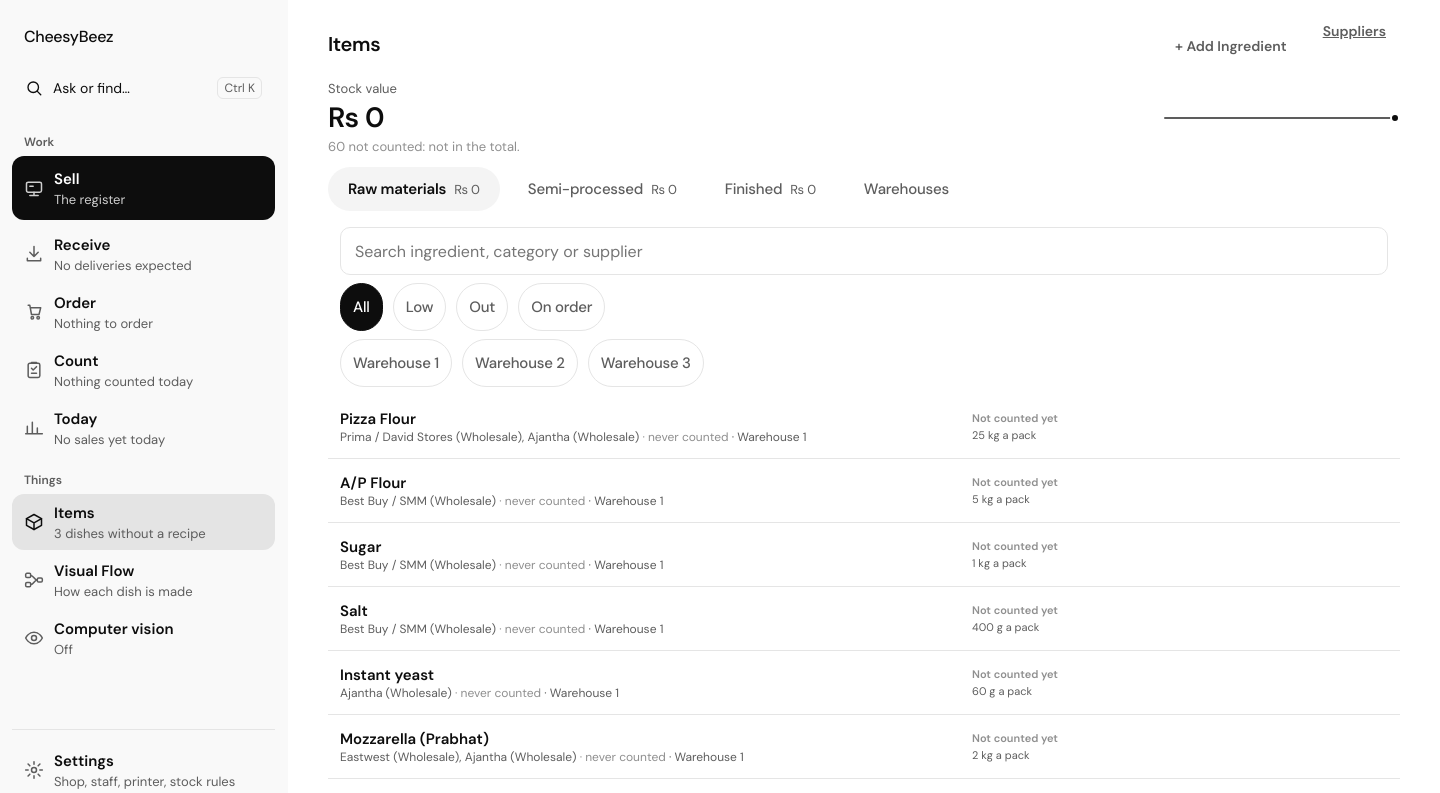
Test case: Raw materials shows each item's home, and its sheet changes it
Click the button "Instant yeast" at point(387, 674), box [340,664,434,684]
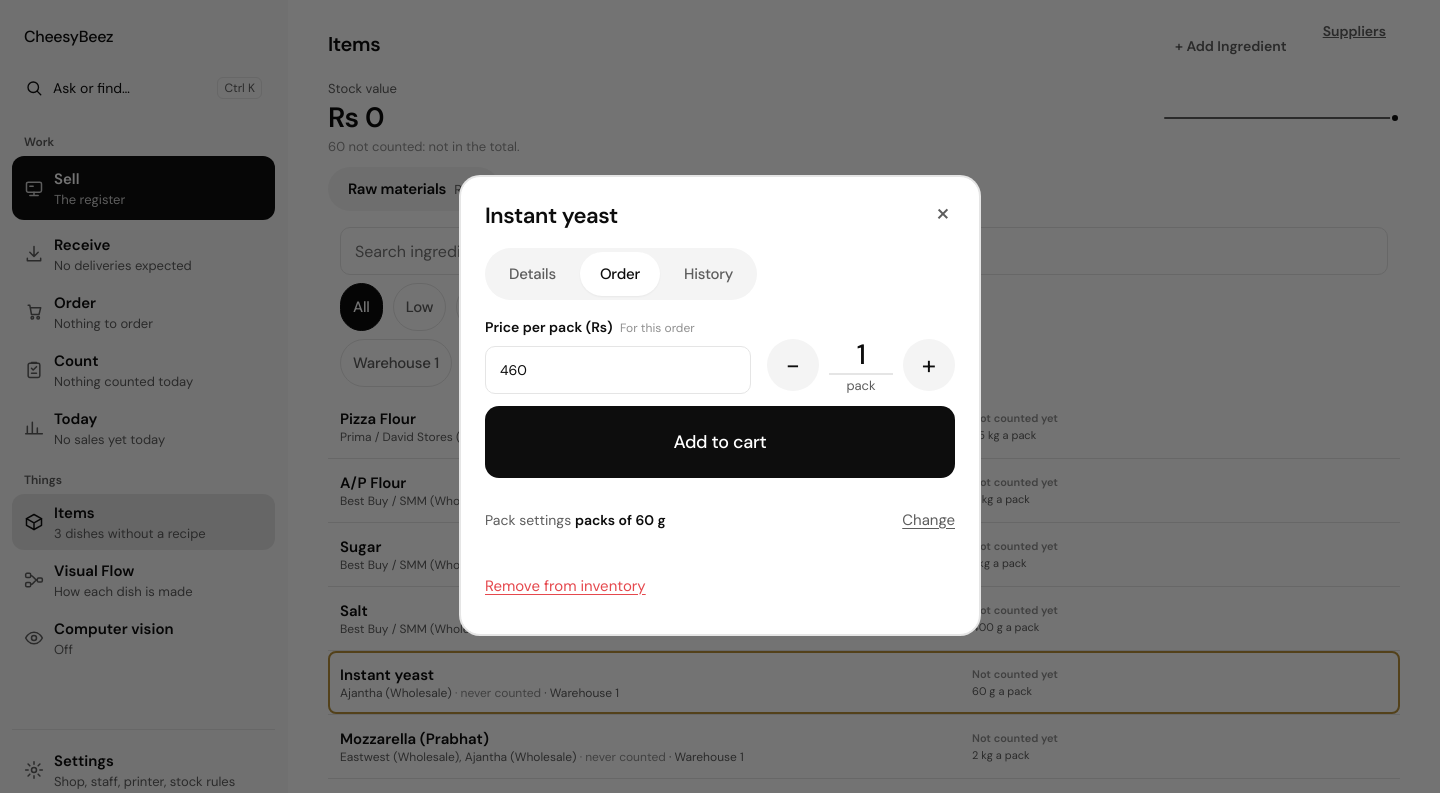
Click the tab "Details" at point(532, 274), box [489,252,576,296]
(page scrolled)
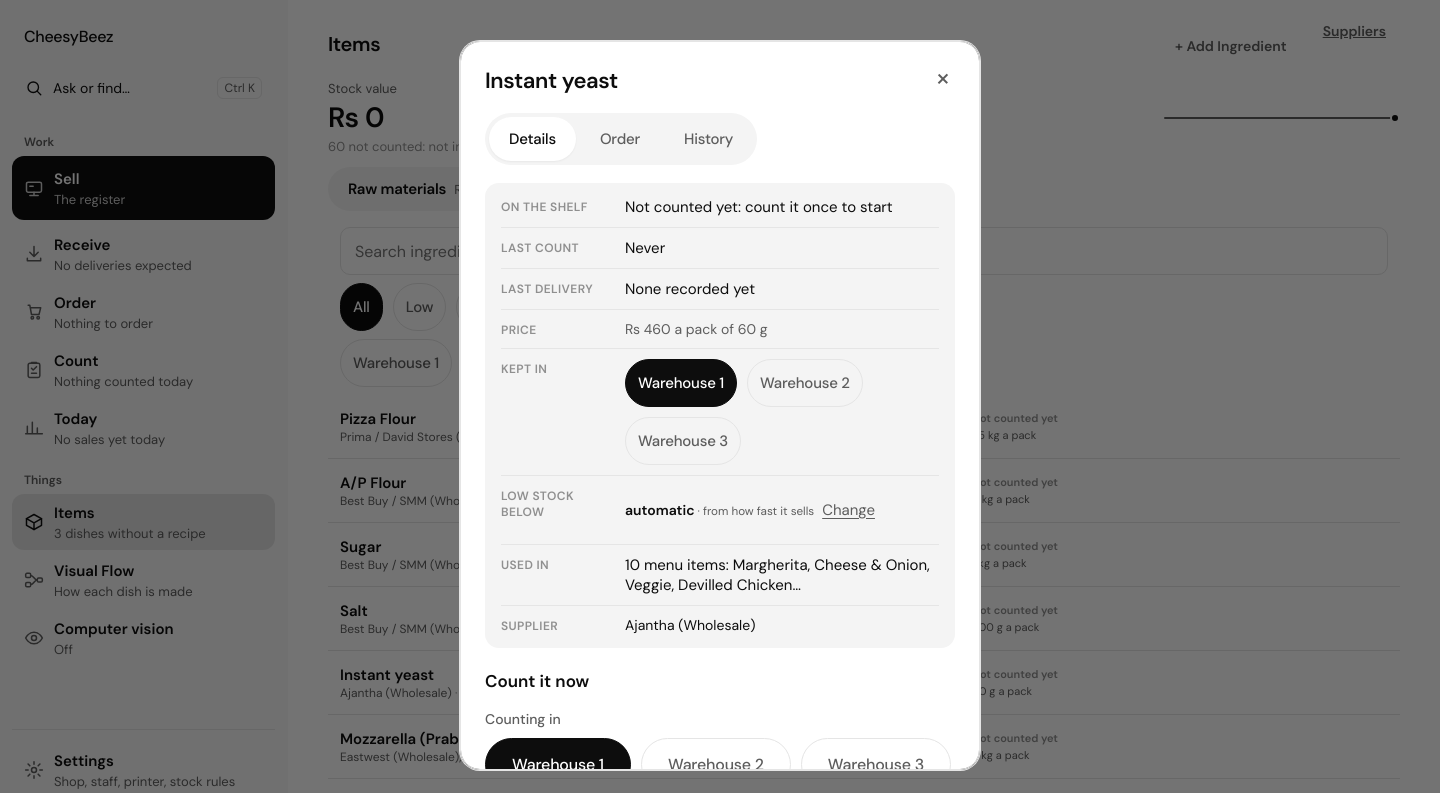
Click the button "Warehouse 2" in the row of "Kept in" at point(805, 382), box [747,358,863,406]
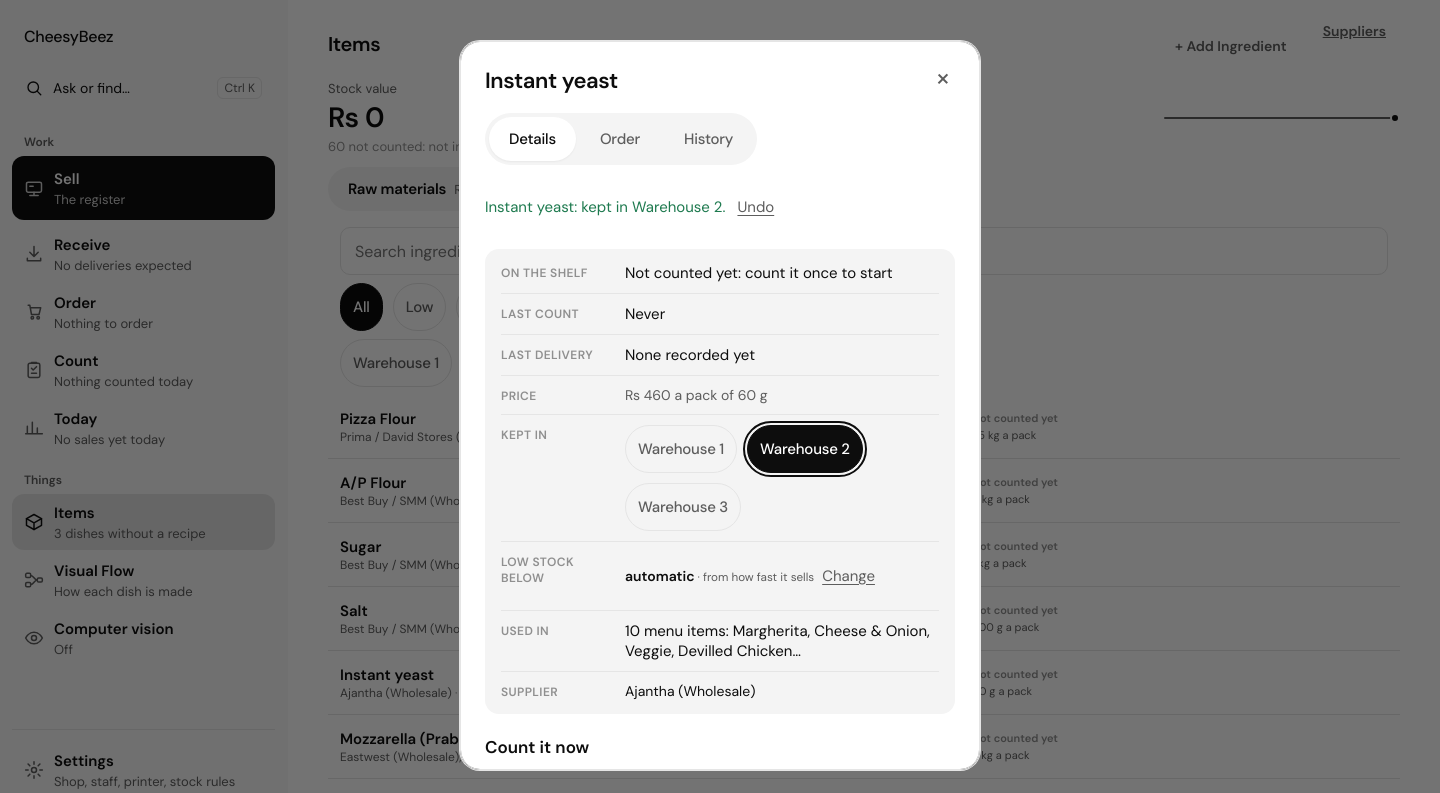
Expected: the message shows "Instant yeast: kept in Warehouse 2", [485,196,726,216]
